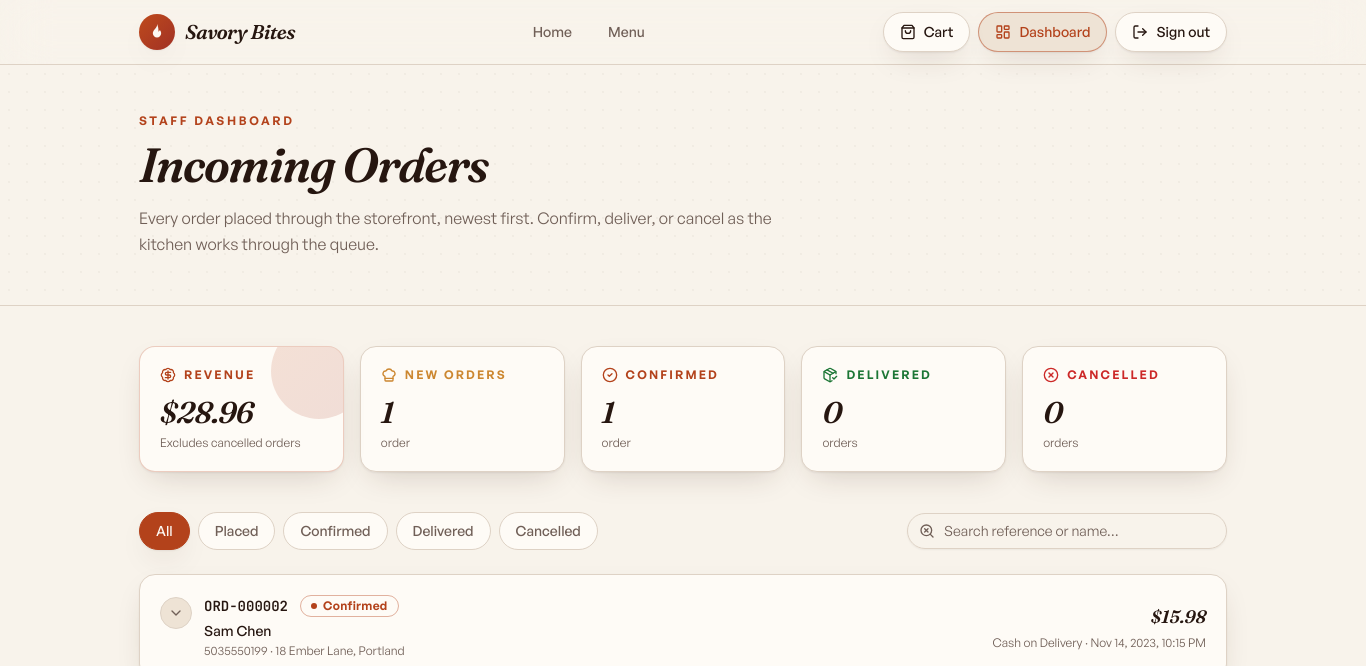
Test case: admin dashboard › marks a confirmed order delivered
Click the button with test id "admin.order.toggle.1": [176, 613] box [160,595,976,659]
(page scrolled)
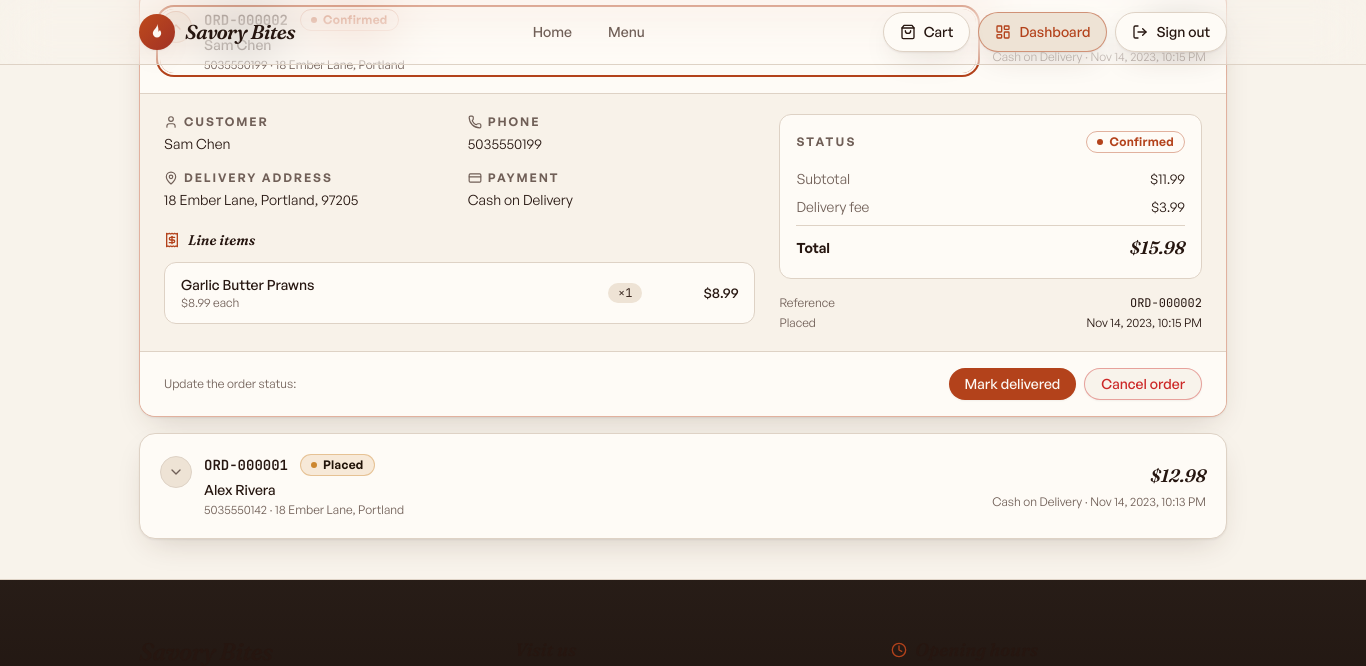
Click the button with test id "admin.order.action.delivered.1": [1012, 384] box [949,368,1076,400]
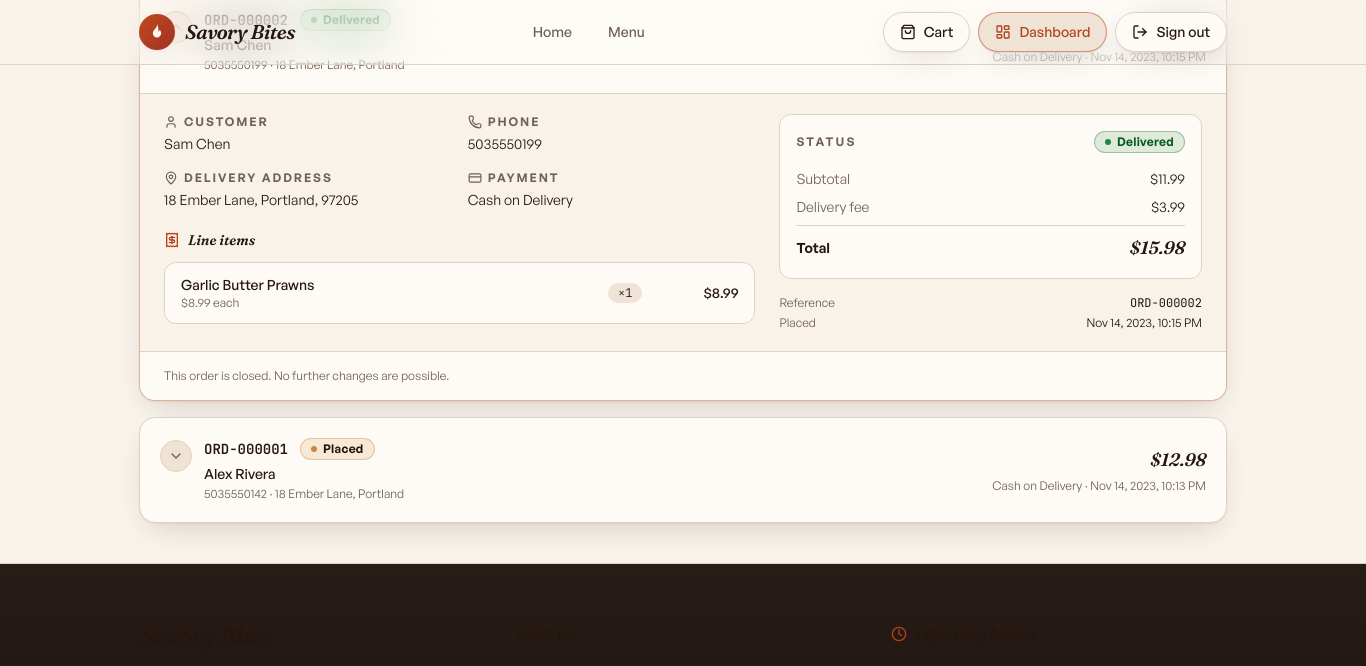
Now the element with test id "admin.order.status_badge.delivered" is shown, box [300,9,391,31]
